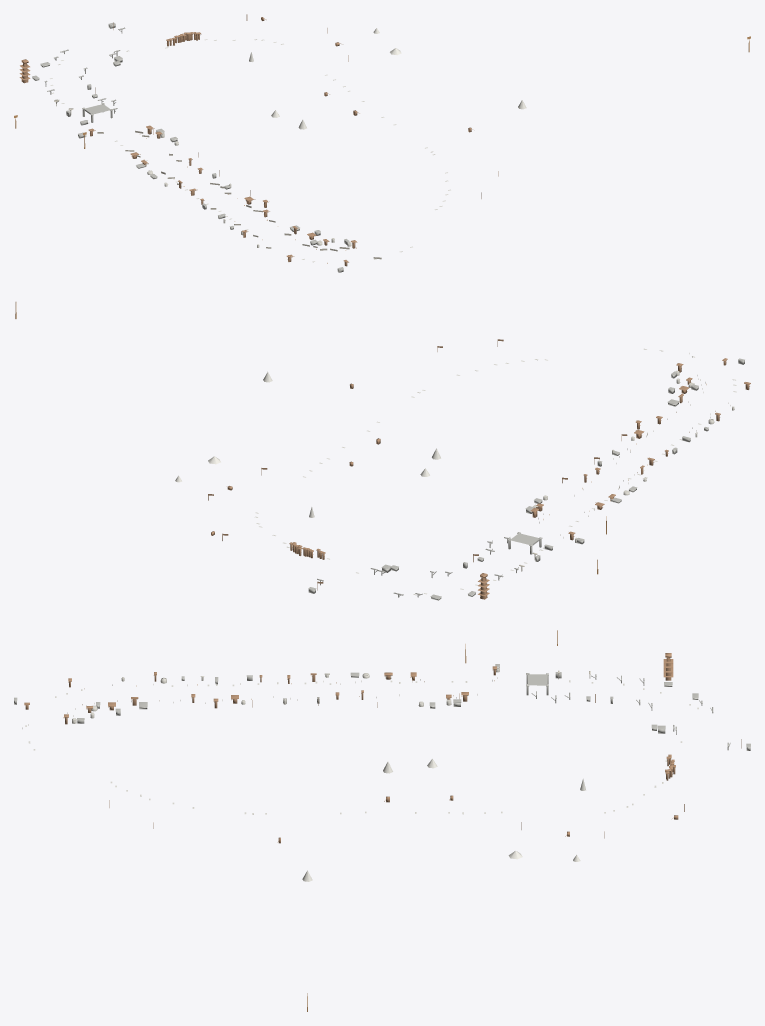
Rendered from bitterpan_massing.glb.
The picture shows the model from 3 angles, top to bottom: view 1: azimuth 30°, elevation 25°; view 2: azimuth 150°, elevation 25°; view 3: azimuth 270°, elevation 25°; orthographic projection. The views are drawn at different scales.
Visible parts, largest first — view 1: GW2_SITE_MASSING; view 2: GW2_SITE_MASSING; view 3: GW2_SITE_MASSING.
Part boxes in pixels (<box>): GW2_SITE_MASSING: <box>14,14,750,272</box>; GW2_SITE_MASSING: <box>15,302,750,600</box>; GW2_SITE_MASSING: <box>14,630,750,1011</box>.
Size of the model in its own units: 1567 by 50.66 by 1328.
